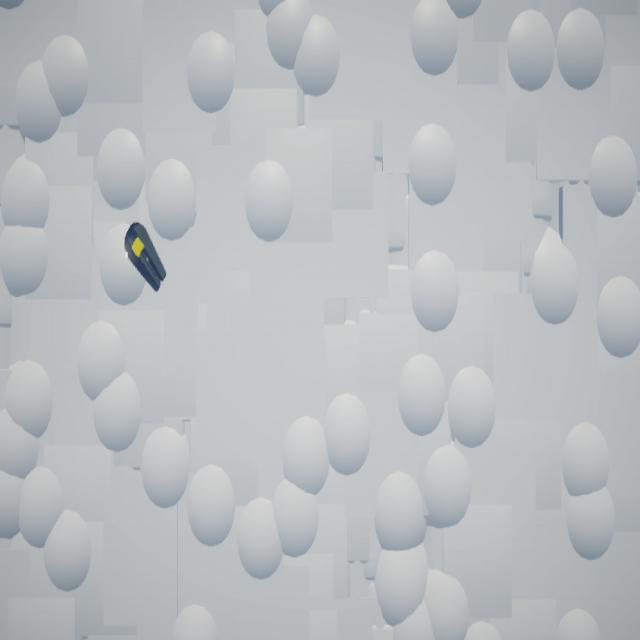handle_folk: (126, 223, 169, 295)
